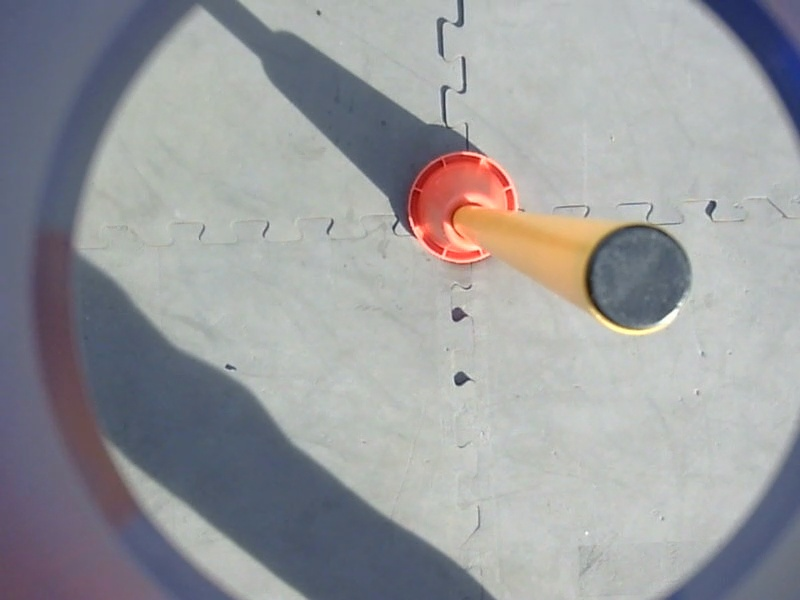tip: (577, 215, 703, 343)
